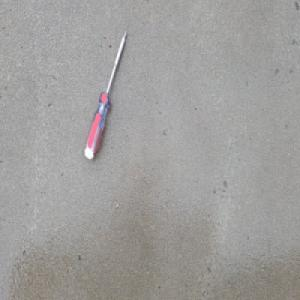Screwdriver: (82, 27, 128, 162)
